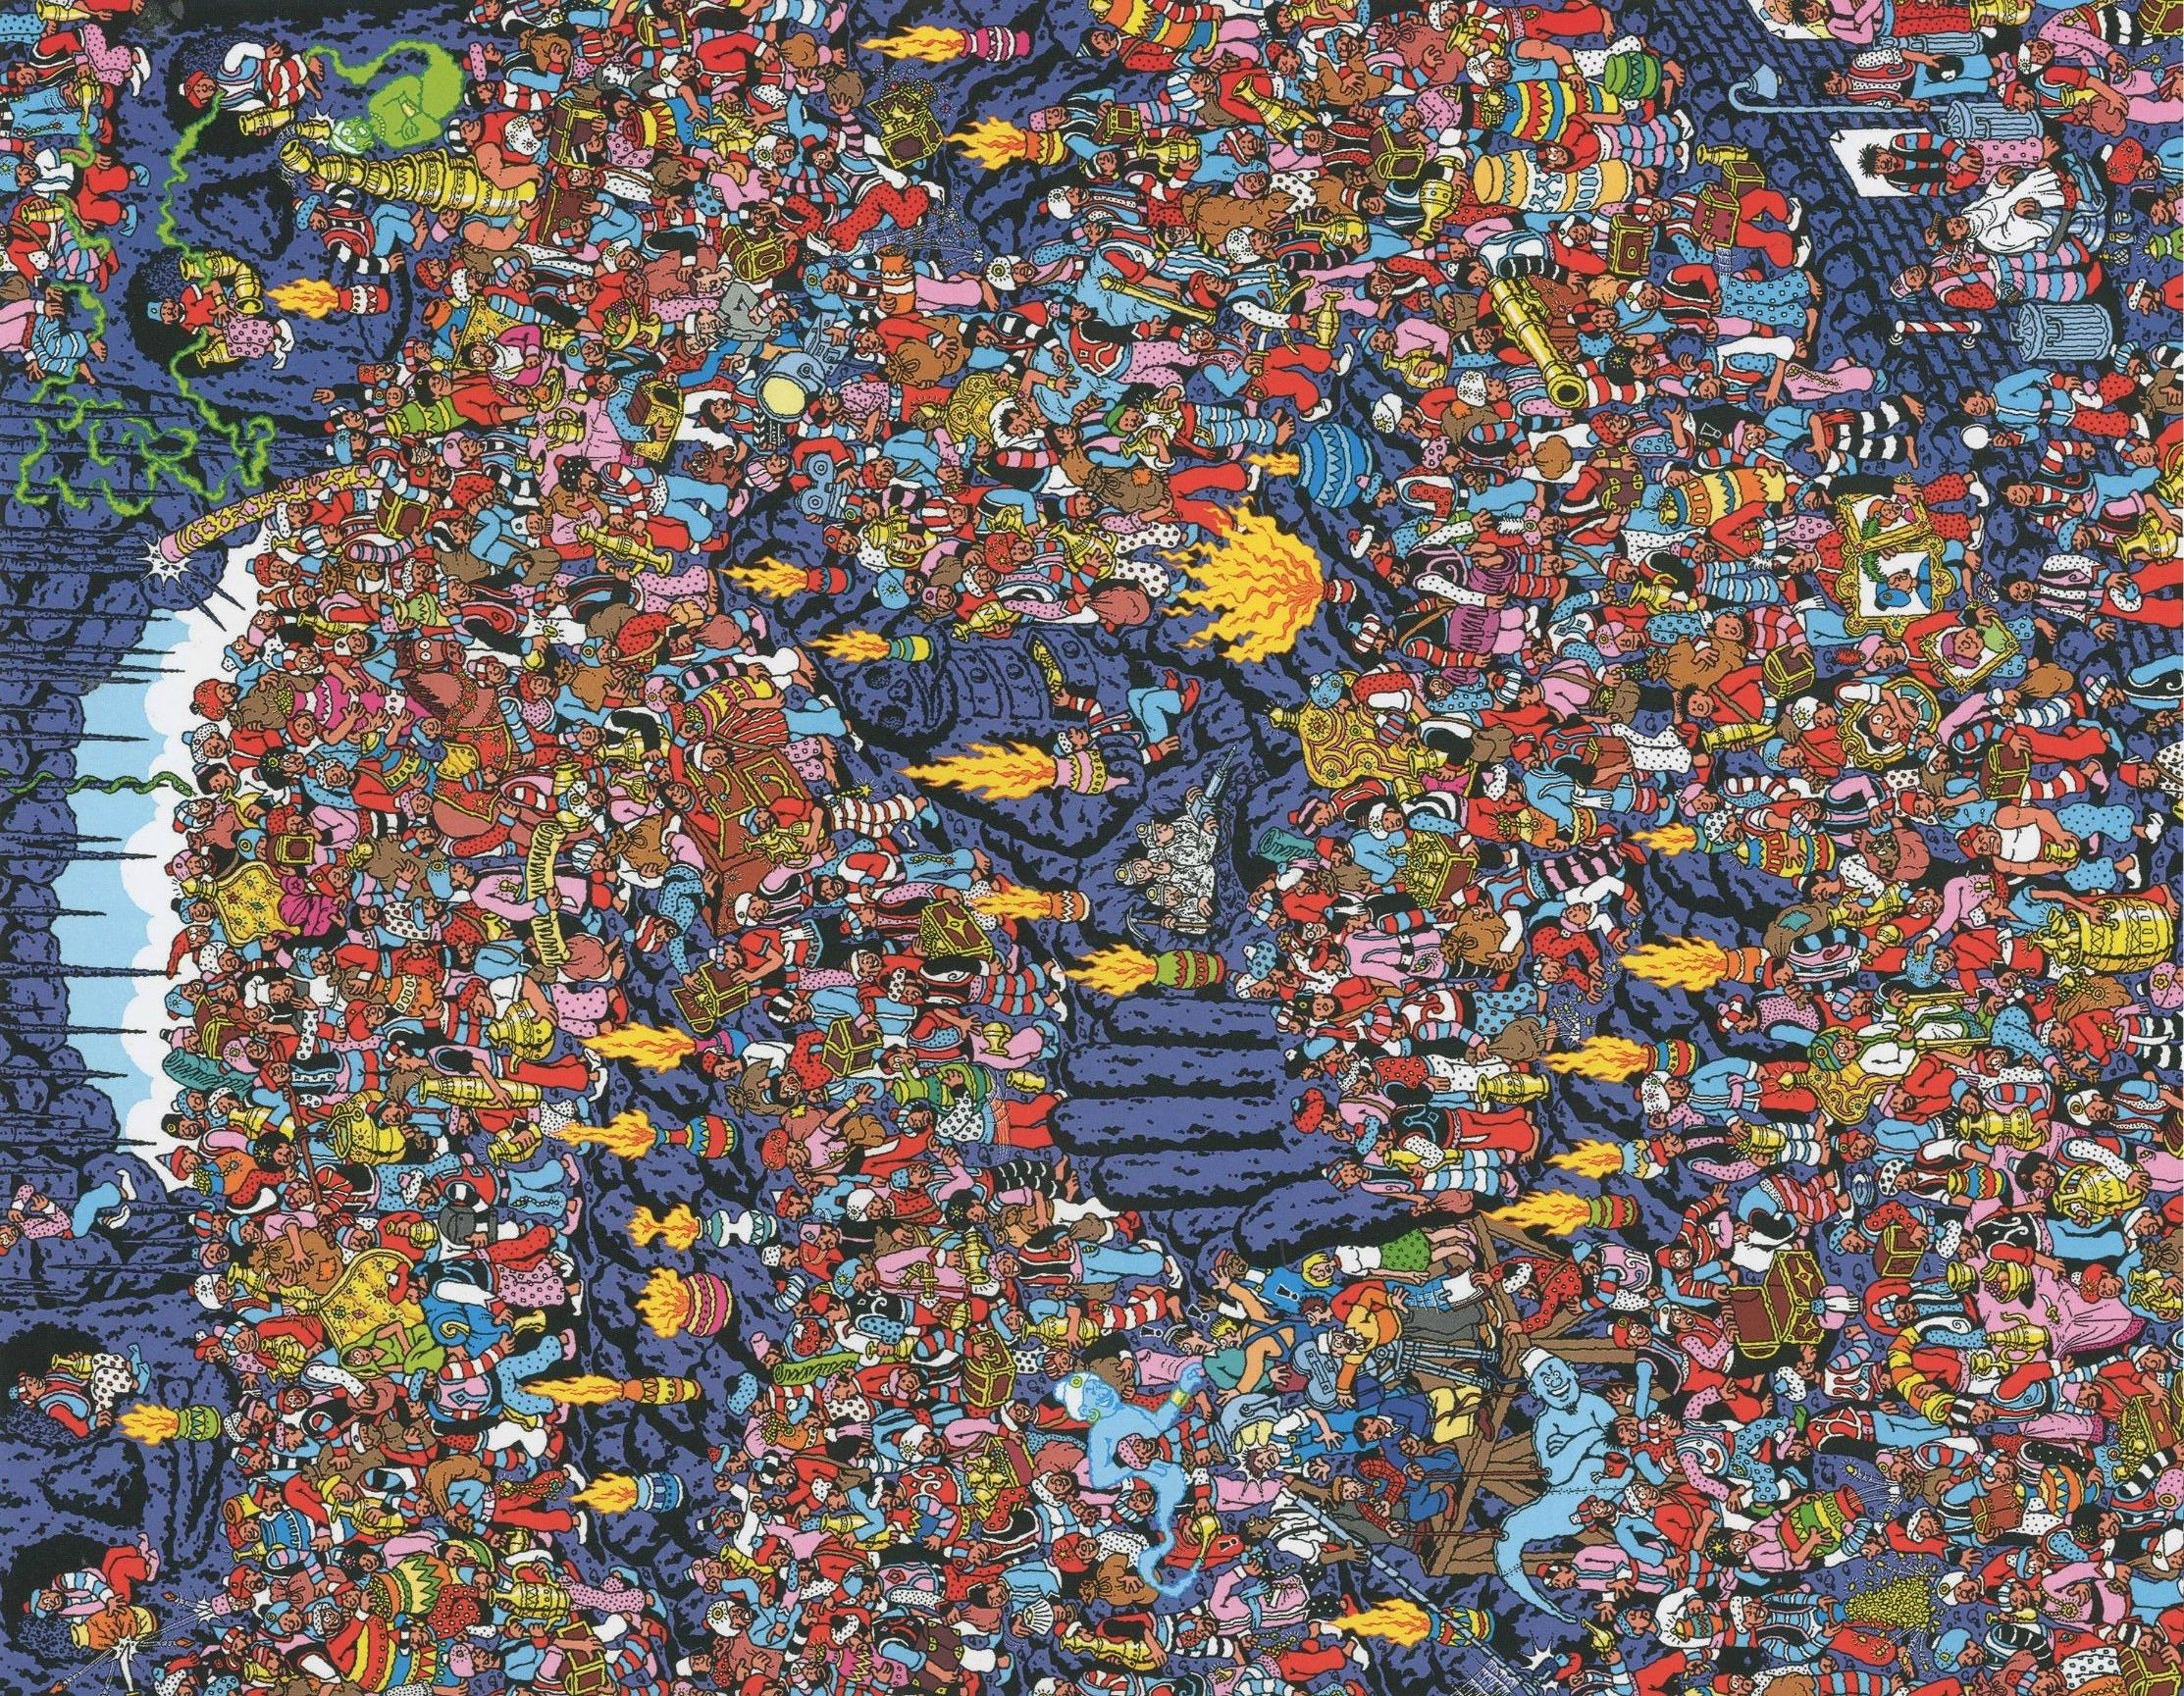waldos: (1282, 918, 1345, 957)
